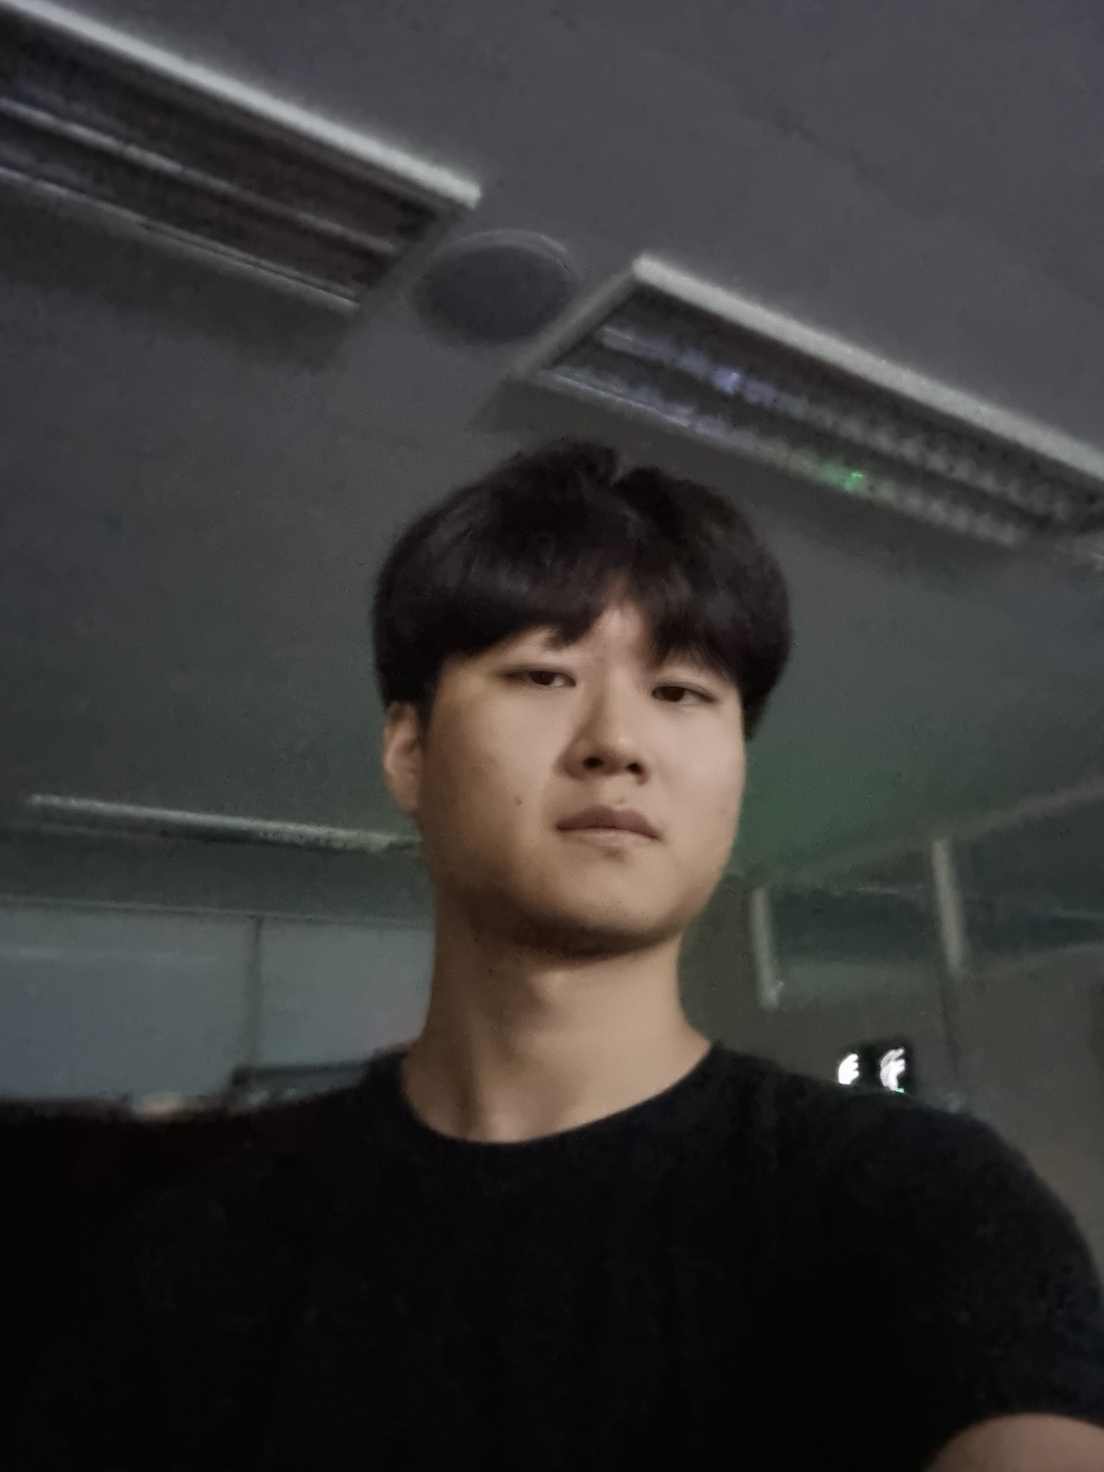Non-Helmet: (325, 392, 884, 1005)
